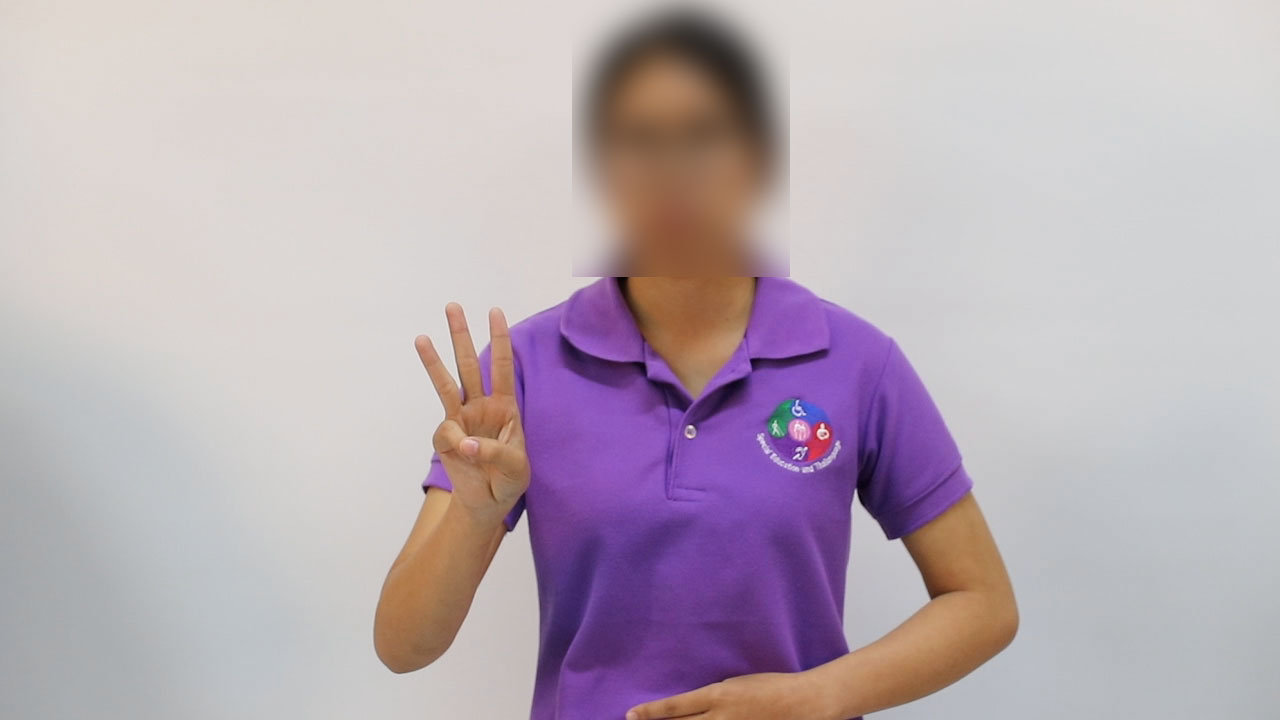wor: (402, 293, 538, 523)
